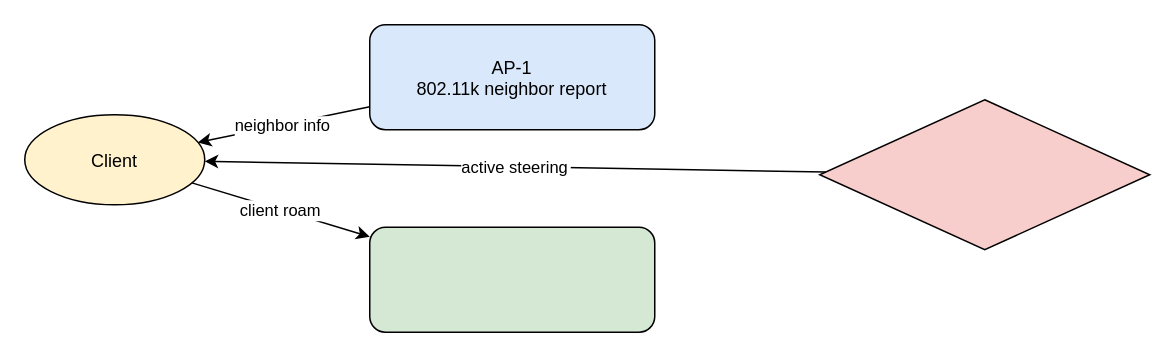
Image size: 1175x357. Some labels were removed from this diagram. Here are the shapes that lost their labels. From the top down, the box of each, then its label:
(818, 98, 1150, 250): 802.11v transition steering
(368, 226, 655, 332): AP-2 better RSSI / less load
